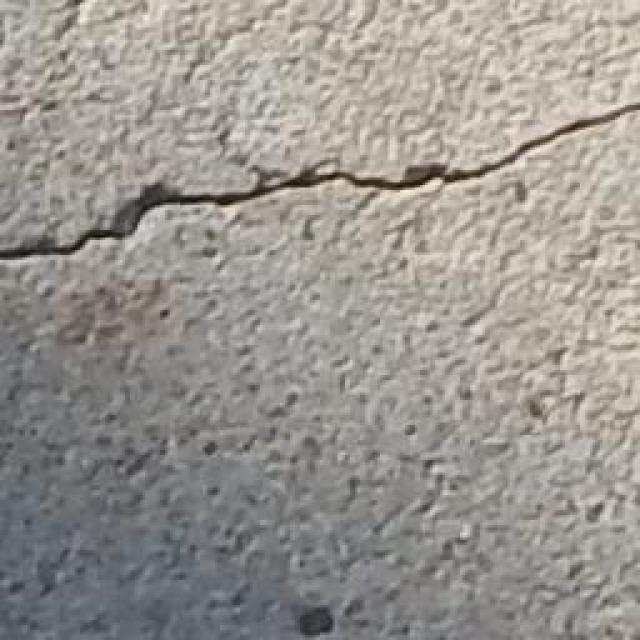concrete-crack: (2, 98, 640, 262)
